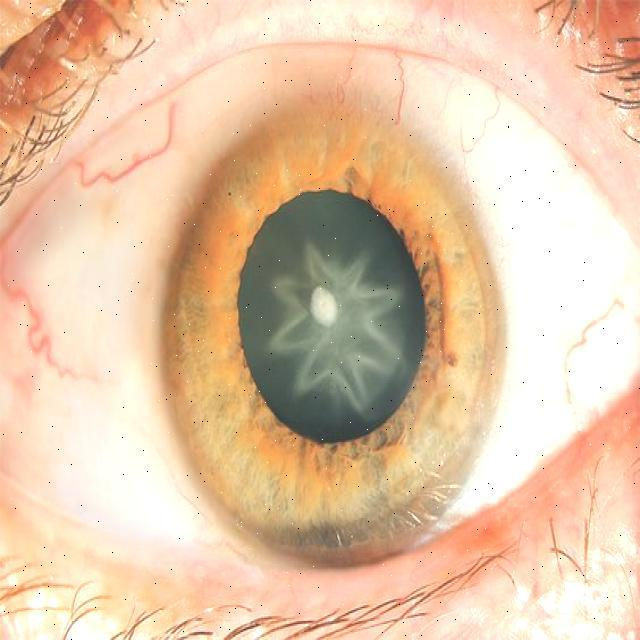Cataract: (173, 122, 481, 537)
